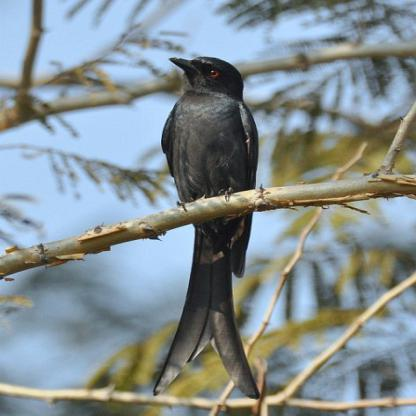Burung: (146, 48, 280, 400)
